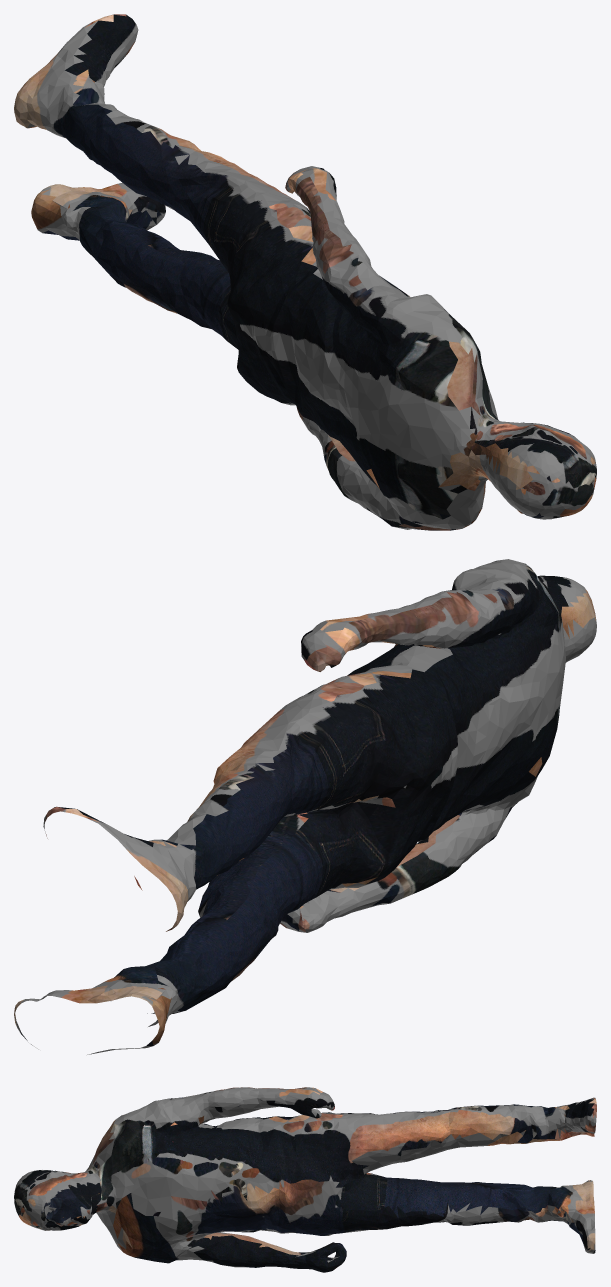
3 views of the same model, one above another, from view 1: azimuth 30°, elevation 25°; view 2: azimuth 150°, elevation 25°; view 3: azimuth 270°, elevation 25° (orthographic). The views are drawn at different scales.
Parts seen in each view (by area): view 1: Node; view 2: Node; view 3: Node.
Part boxes in pixels (x1=…): Node: x1=14, y1=14, x2=596, y2=530; Node: x1=14, y1=559, x2=596, y2=1054; Node: x1=14, y1=1087, x2=596, y2=1272.
Size of the model in its own units: 0.371 by 0.5982 by 1.77.
1 material, 1 textured.
